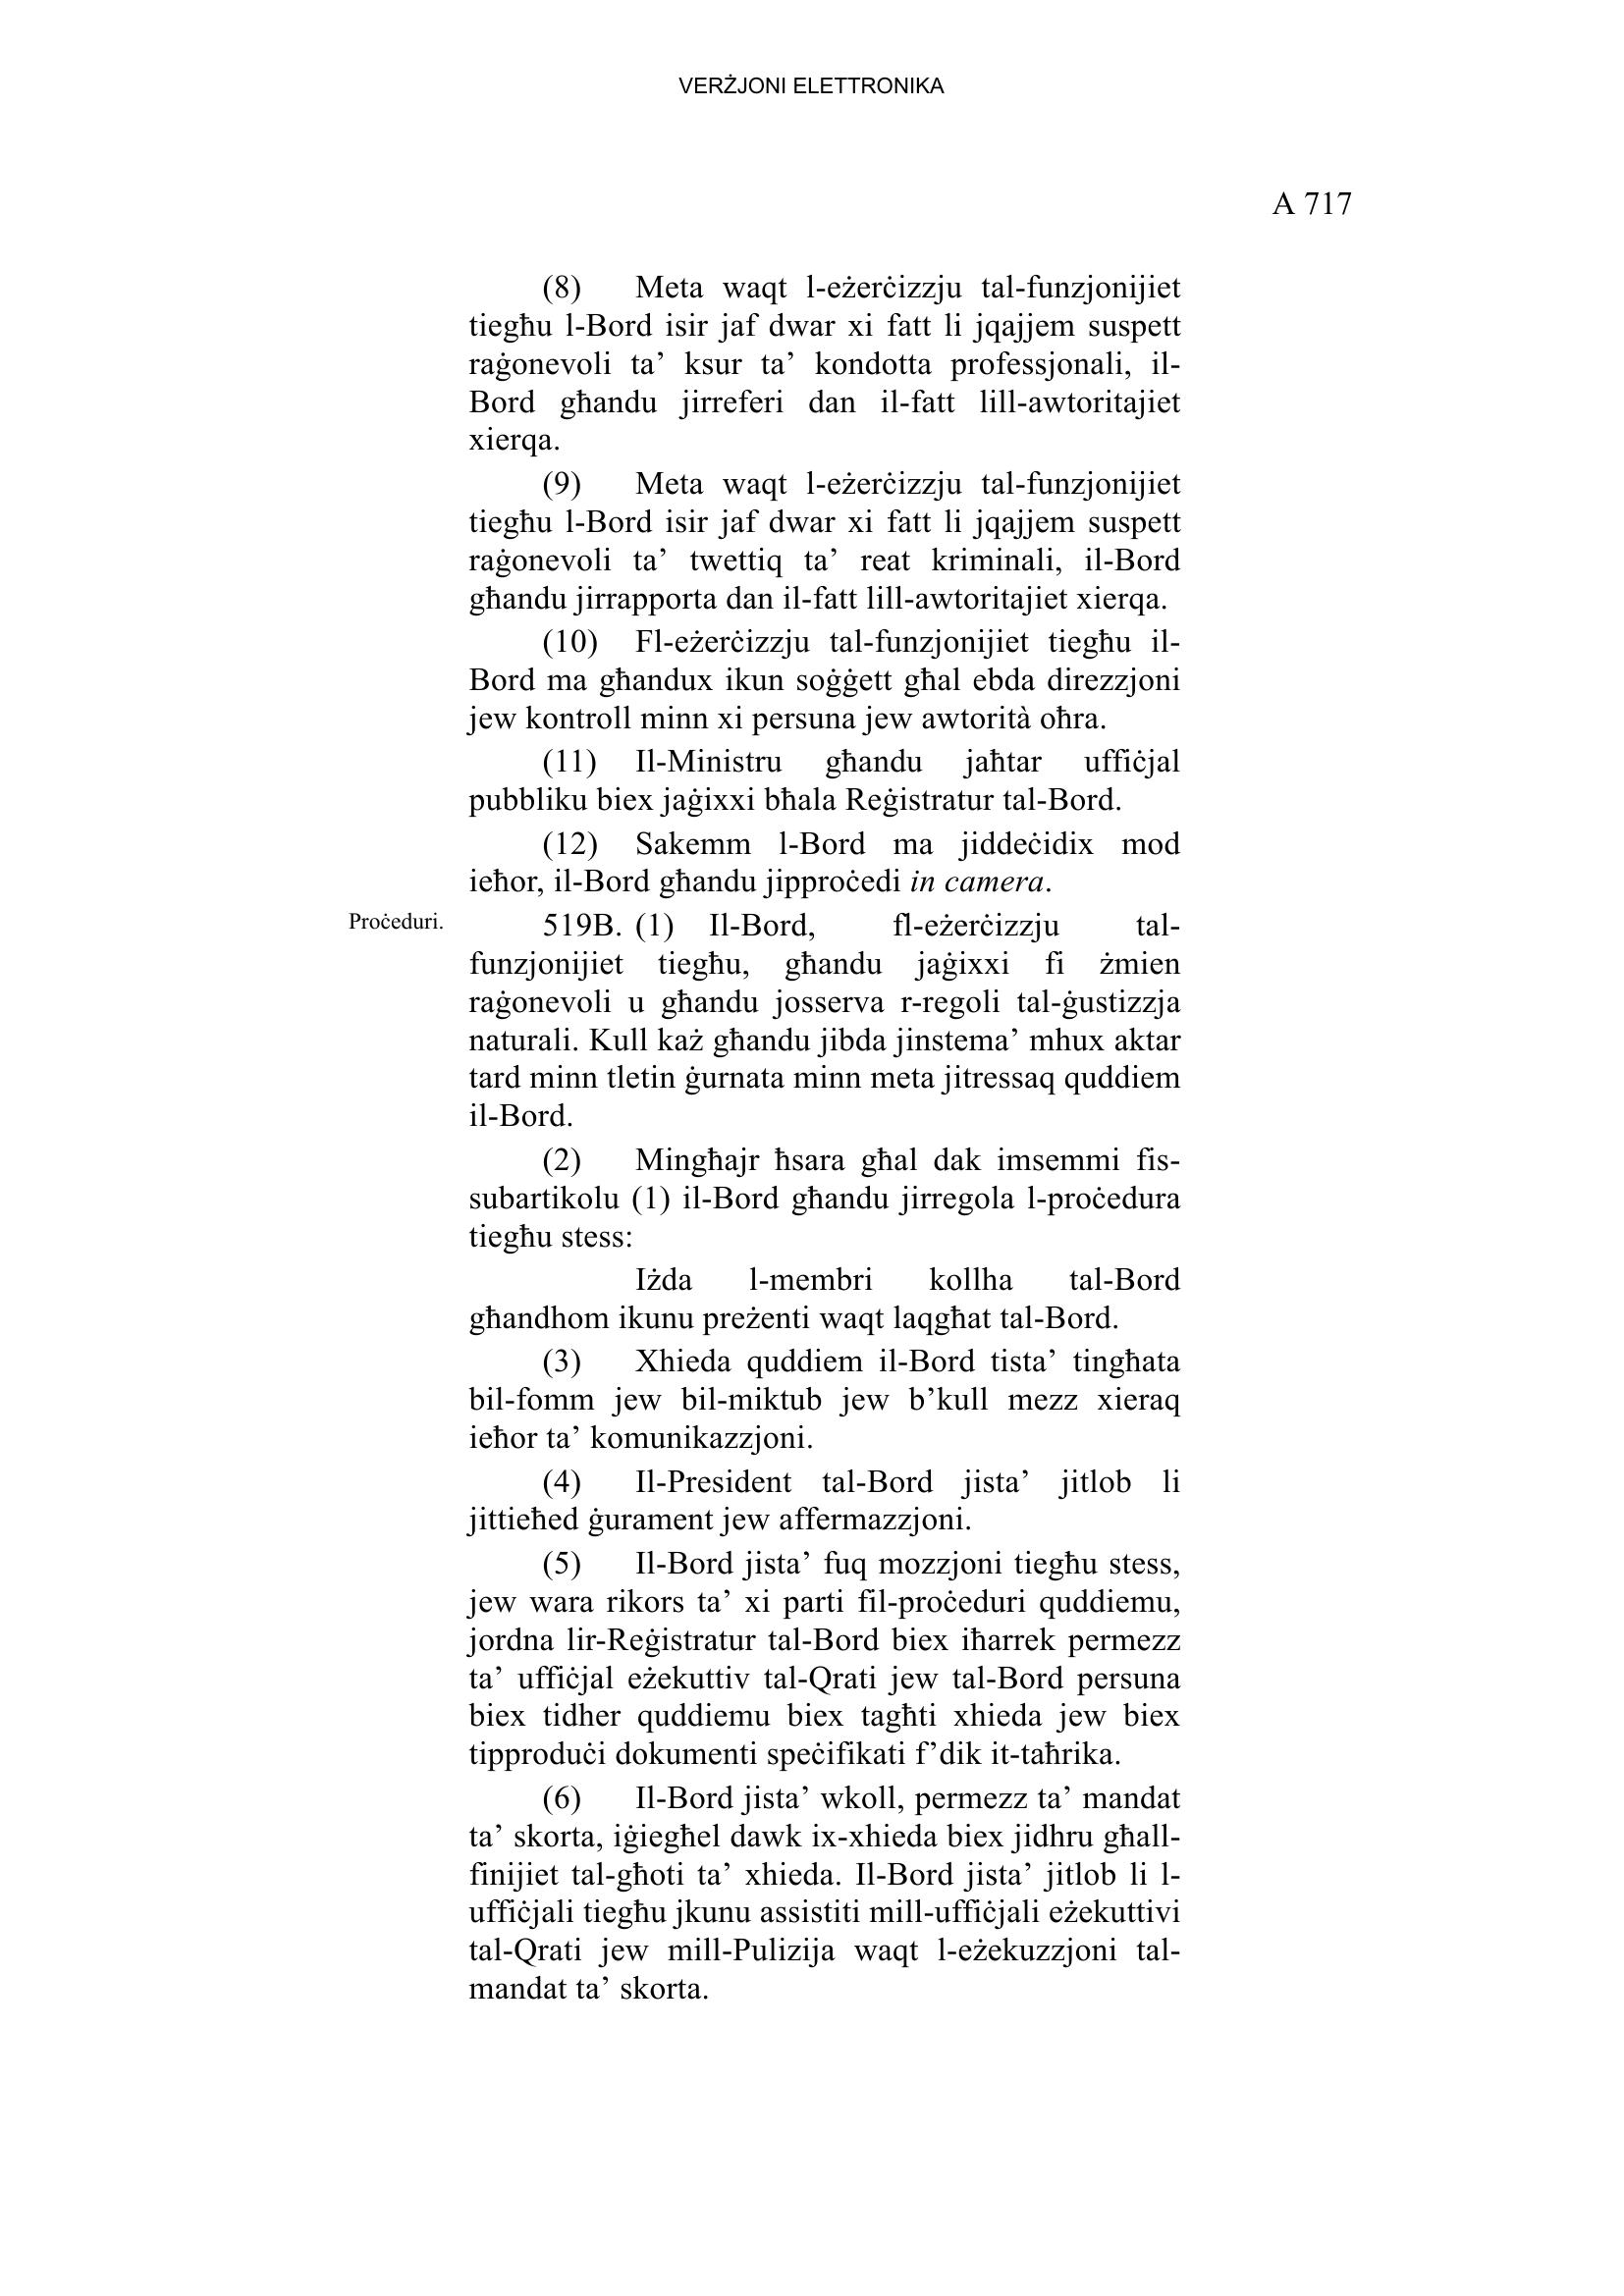text: (457, 267, 1204, 2015)
